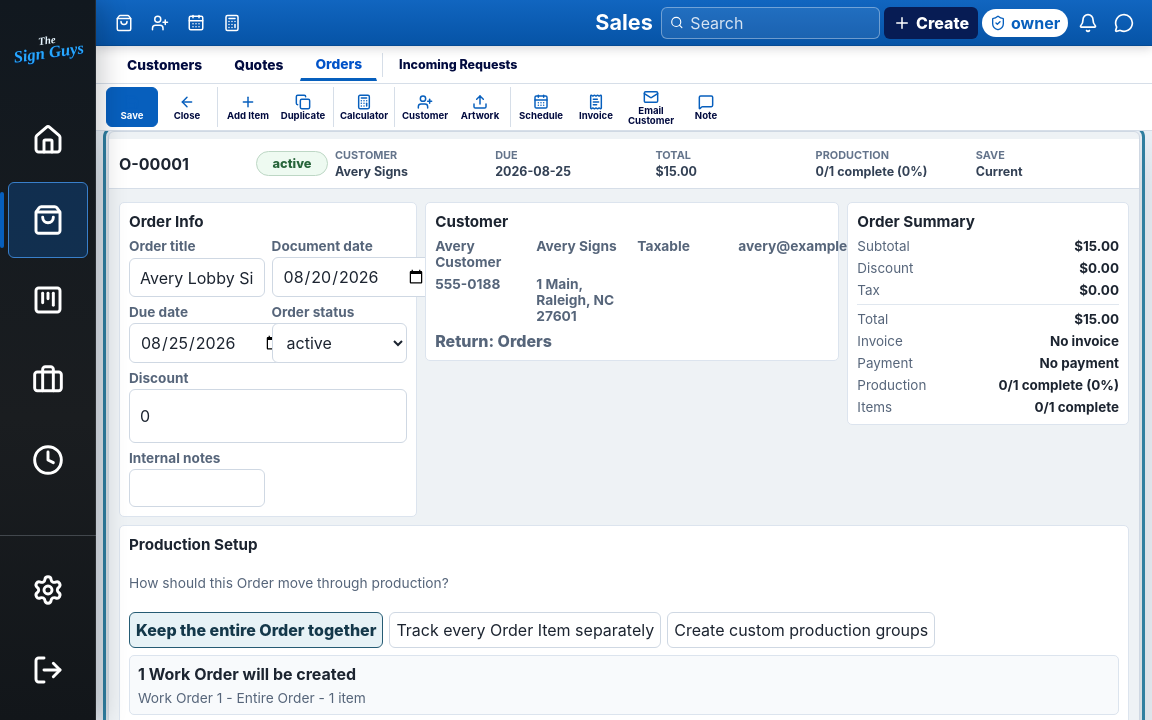
Part 2 UI › surfaces stale workspace conflicts with a Reload action
Step 1. Type "Changed" into the field labelled "Internal notes" → (197, 488), box left=129, top=469, right=265, bottom=507
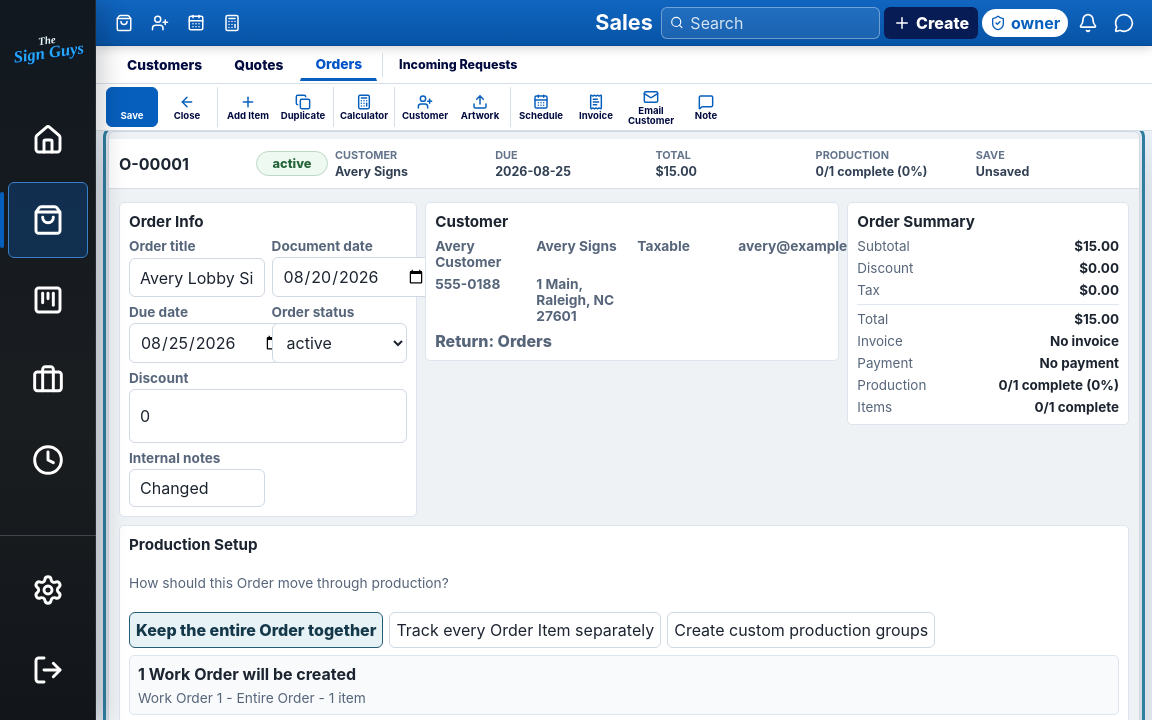
Step 2. Click the button "Save" → (132, 107), box left=106, top=87, right=158, bottom=127
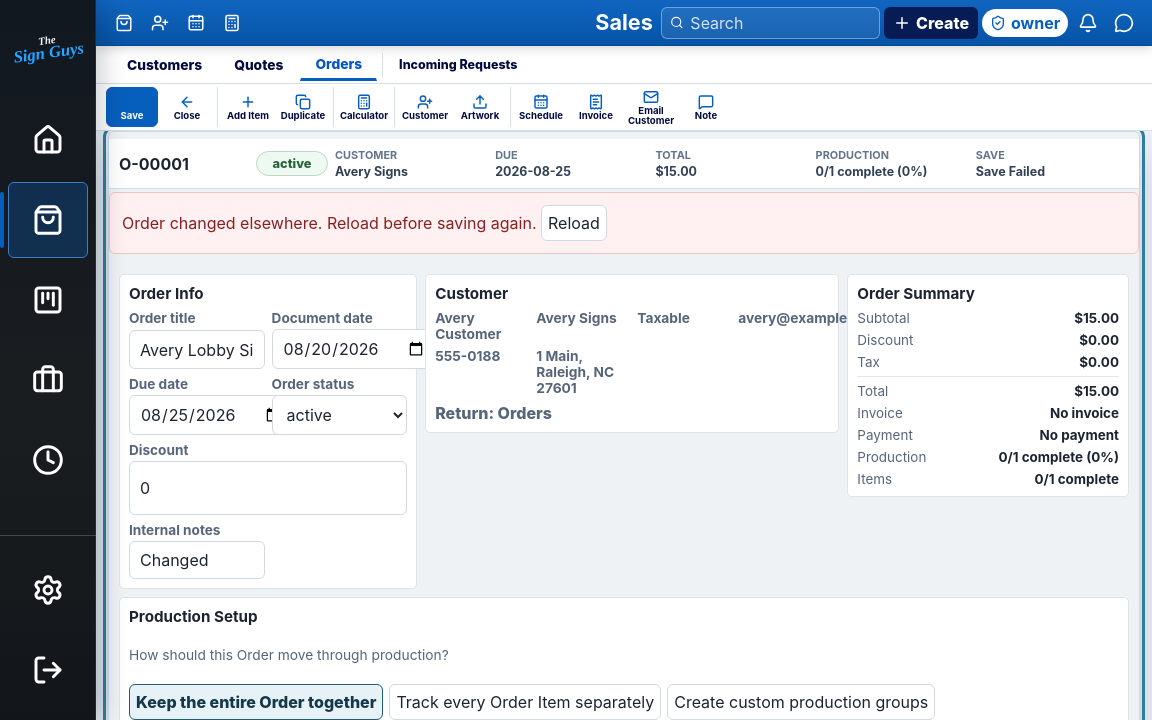
Check: the text "Order changed elsewhere. Reload before saving again. Reload" is shown, box left=109, top=192, right=1139, bottom=254
Check: the button "Reload" is shown, box left=541, top=205, right=607, bottom=241
